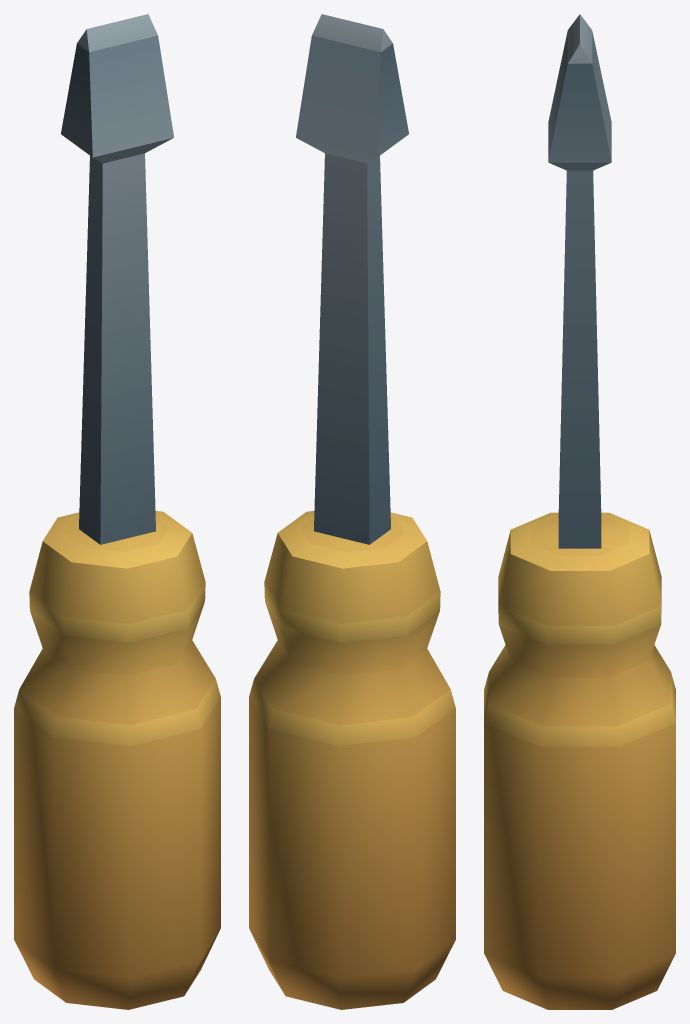
File: screwdriver_a_long_color.glb
3 views of the same model, side by side, from view 1: azimuth 30°, elevation 25°; view 2: azimuth 150°, elevation 25°; view 3: azimuth 270°, elevation 25° (orthographic).
Parts seen in each view (by area): view 1: screwdriver_A_long_color; view 2: screwdriver_A_long_color; view 3: screwdriver_A_long_color.
Part boxes in pixels (left/top/right/bottom): screwdriver_A_long_color: left=14, top=14, right=220, bottom=1009; screwdriver_A_long_color: left=249, top=14, right=455, bottom=1009; screwdriver_A_long_color: left=484, top=14, right=675, bottom=1009.
Size of the model in its own units: 0.0908 by 0.506 by 0.0908.
1 material, 1 textured.
